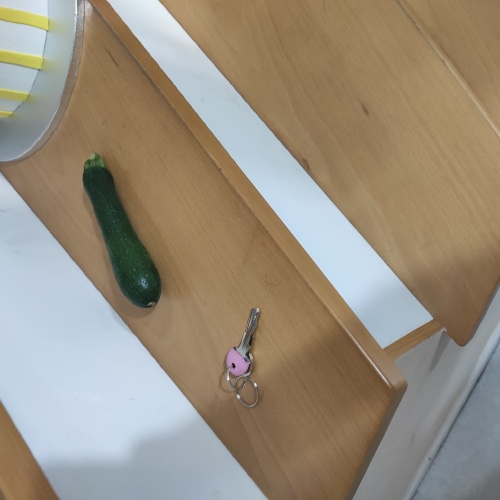zucchine: (76, 150, 168, 313)
